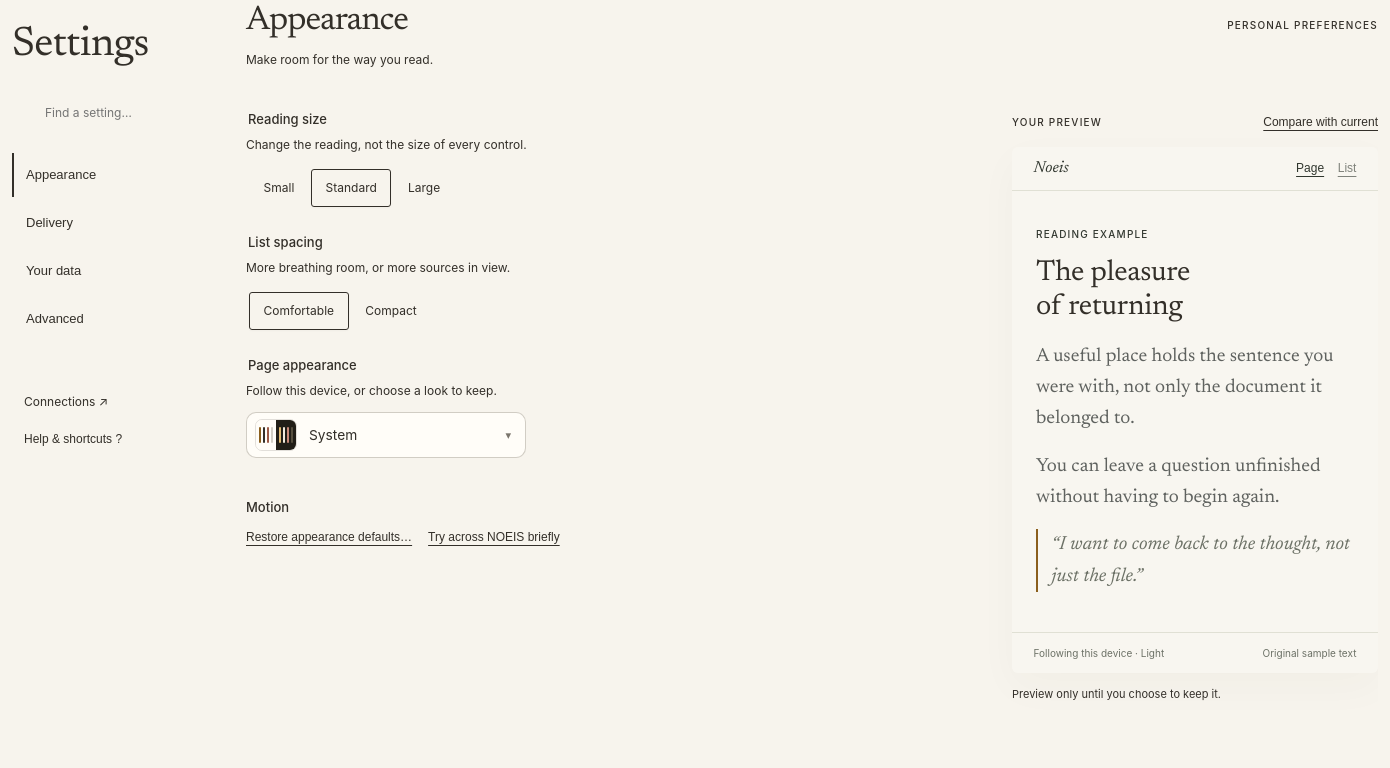
Settings redesign › loads delivery settings lazily in the Delivery section
Click the button "Delivery" at coordinates (103, 223), box x1=12 y1=201 x2=194 y2=245
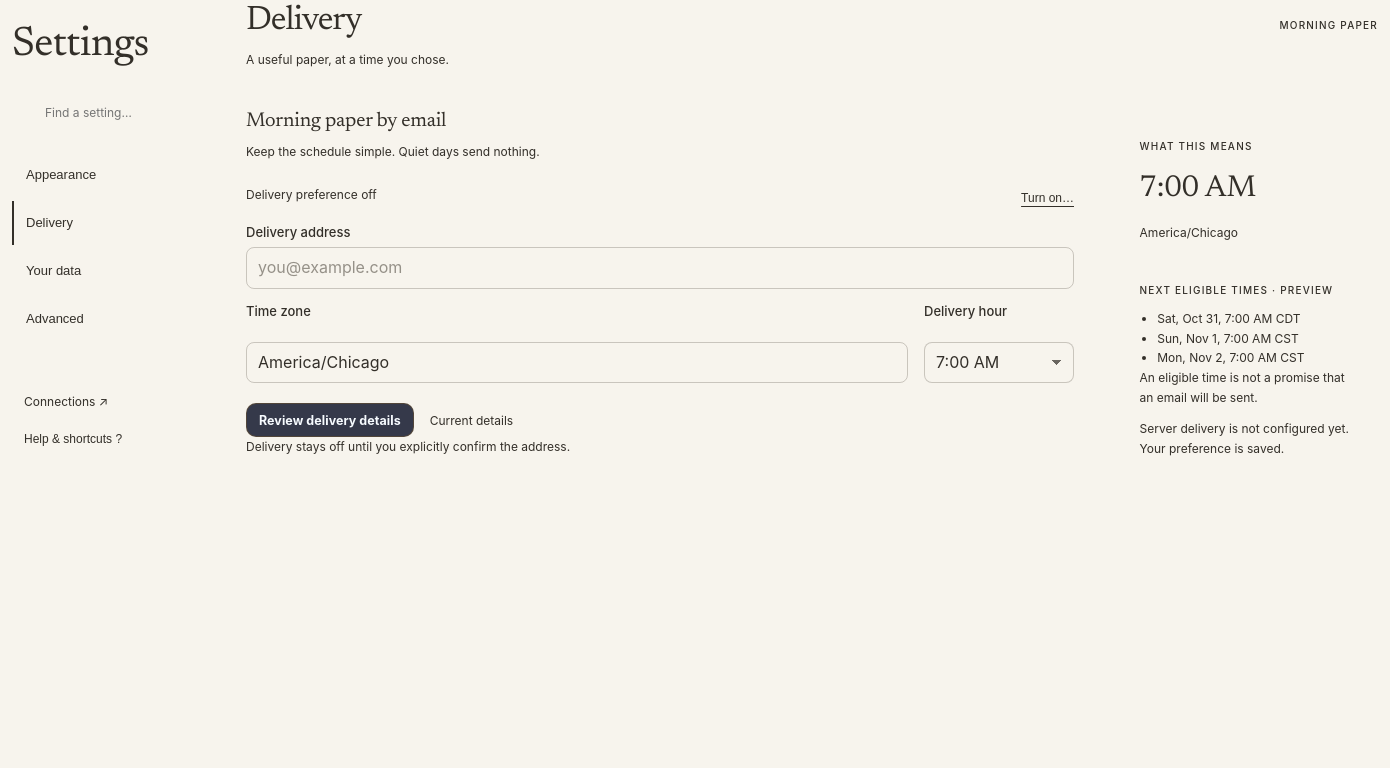
Check: the heading "Morning paper by email" is shown, box x1=246 y1=111 x2=446 y2=131
